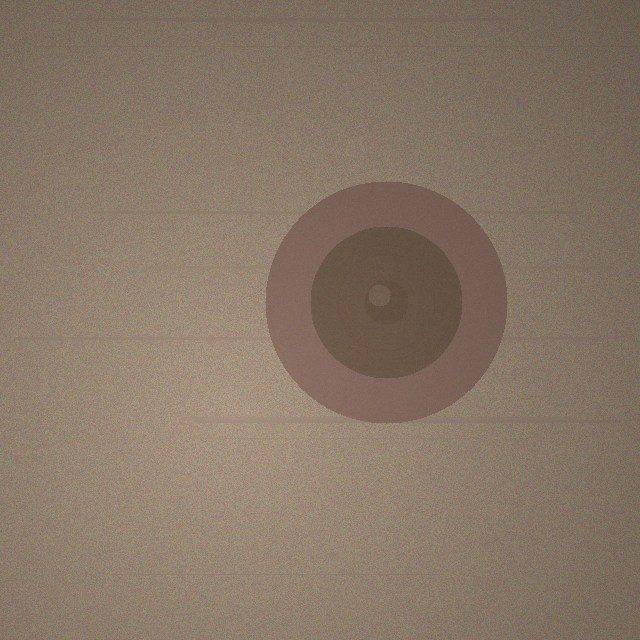good: (265, 181, 507, 423)
